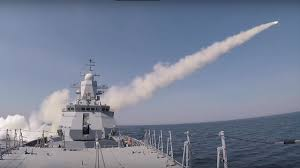tau_muctieu: (1, 72, 217, 168)
ten_lua: (264, 17, 284, 31)
